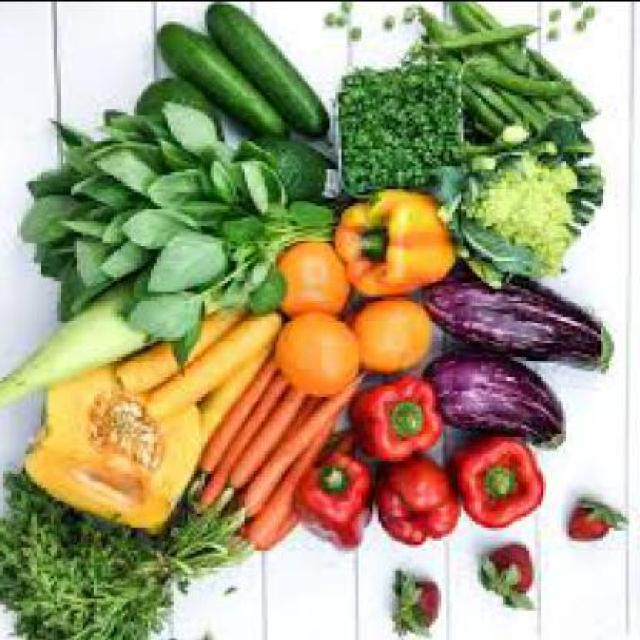BIODEGRADABLE: (20, 104, 342, 376), (2, 480, 243, 638), (26, 370, 202, 532), (2, 278, 160, 409), (429, 271, 617, 372), (208, 3, 338, 145), (239, 378, 370, 517), (455, 3, 600, 117), (154, 26, 292, 142), (459, 2, 586, 126), (464, 160, 578, 282), (154, 319, 289, 421), (347, 68, 461, 188), (432, 351, 566, 449), (336, 194, 462, 298), (248, 415, 338, 554), (202, 376, 290, 512), (120, 301, 242, 387), (456, 436, 552, 532), (298, 447, 382, 551), (384, 452, 467, 550), (208, 358, 278, 472), (278, 312, 368, 398), (358, 381, 449, 464), (236, 382, 307, 486), (549, 119, 606, 239), (204, 344, 276, 438), (356, 298, 442, 376), (276, 242, 362, 318), (250, 142, 342, 202), (467, 57, 578, 103), (151, 231, 234, 292), (128, 292, 202, 345), (97, 145, 171, 197), (394, 571, 446, 638), (484, 544, 538, 608), (472, 121, 537, 174), (125, 211, 208, 251), (159, 100, 219, 154), (236, 159, 290, 213), (76, 239, 126, 293), (575, 501, 637, 544), (439, 32, 546, 56), (468, 80, 521, 126), (498, 82, 547, 128), (242, 162, 288, 210), (154, 170, 218, 204), (524, 86, 578, 122), (253, 264, 290, 316), (466, 86, 506, 132), (105, 242, 148, 284), (460, 256, 509, 290), (292, 205, 338, 228), (65, 219, 117, 239), (532, 142, 563, 156), (404, 8, 418, 26), (551, 8, 564, 26), (578, 19, 592, 32), (588, 5, 601, 18), (329, 12, 338, 28), (342, 2, 356, 12), (355, 31, 368, 40), (341, 17, 350, 29), (386, 20, 399, 28), (551, 37, 564, 43), (577, 2, 583, 12)
